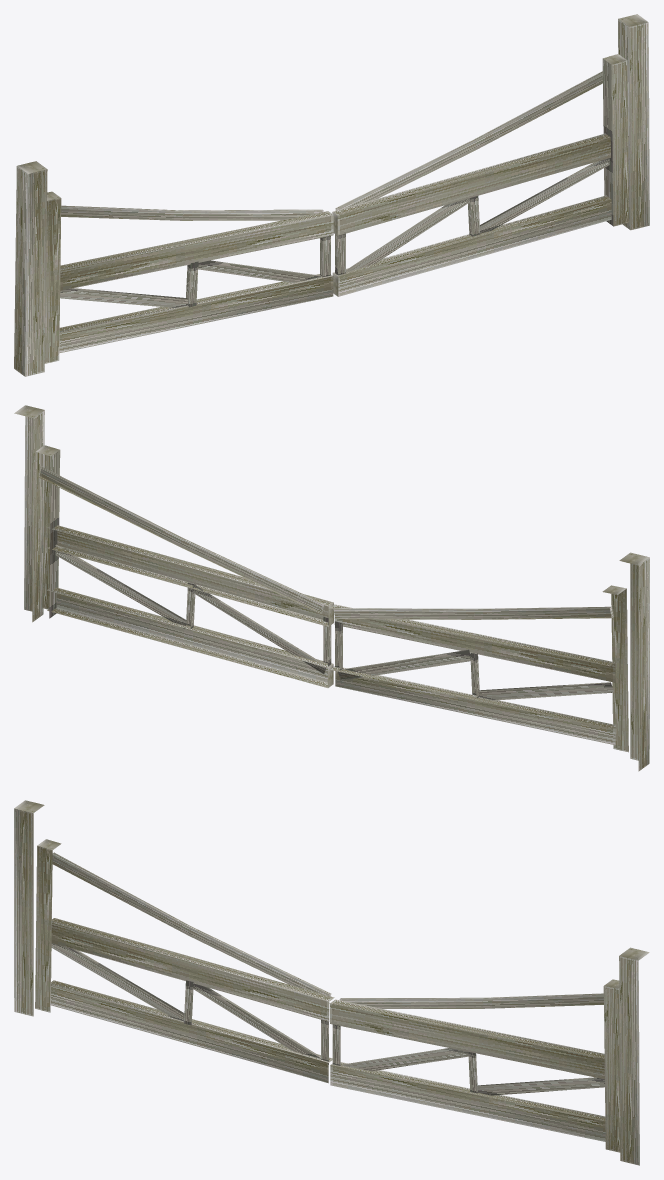
Rendered from stage-alpi-p6-63.glb.
The picture shows the model from 3 angles, top to bottom: view 1: azimuth 30°, elevation 25°; view 2: azimuth 150°, elevation 25°; view 3: azimuth 330°, elevation 25°; orthographic projection.
Bounding box in the file's own units: 8.01 × 2.5 × 0.3003.
2 materials, 2 textured.
